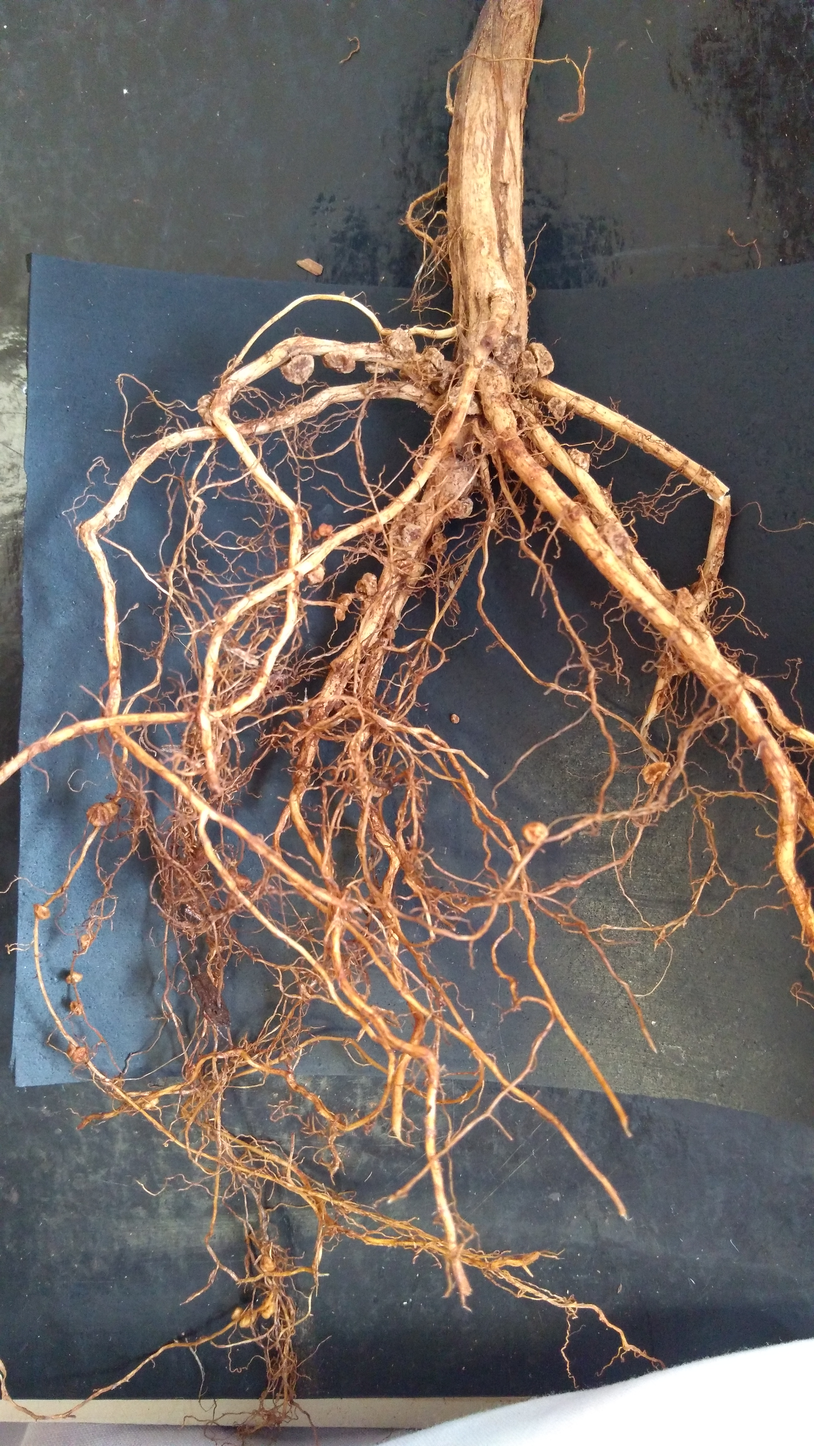nodule: (445, 381, 488, 420), (435, 456, 476, 494), (277, 352, 316, 389), (639, 755, 673, 795), (81, 798, 124, 829), (382, 325, 418, 362), (318, 347, 360, 378), (529, 339, 556, 382), (513, 349, 539, 393), (565, 441, 596, 477), (400, 359, 437, 389), (521, 817, 550, 850), (391, 549, 426, 576), (362, 354, 394, 383), (353, 571, 380, 600), (444, 495, 473, 522), (546, 394, 569, 425), (63, 1042, 91, 1066), (423, 343, 446, 371), (333, 589, 352, 622), (197, 392, 215, 426), (426, 532, 449, 557), (29, 902, 56, 923), (304, 563, 326, 588), (400, 524, 422, 547), (238, 1307, 259, 1329), (259, 1254, 282, 1274), (409, 456, 433, 474), (675, 586, 694, 607), (65, 969, 84, 985), (260, 1297, 273, 1319), (318, 522, 334, 539), (68, 999, 84, 1015), (81, 932, 93, 953), (229, 1305, 244, 1320), (449, 711, 462, 725), (311, 528, 321, 541)
